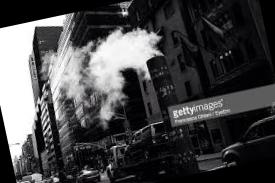Smoke: (46, 22, 180, 122)
